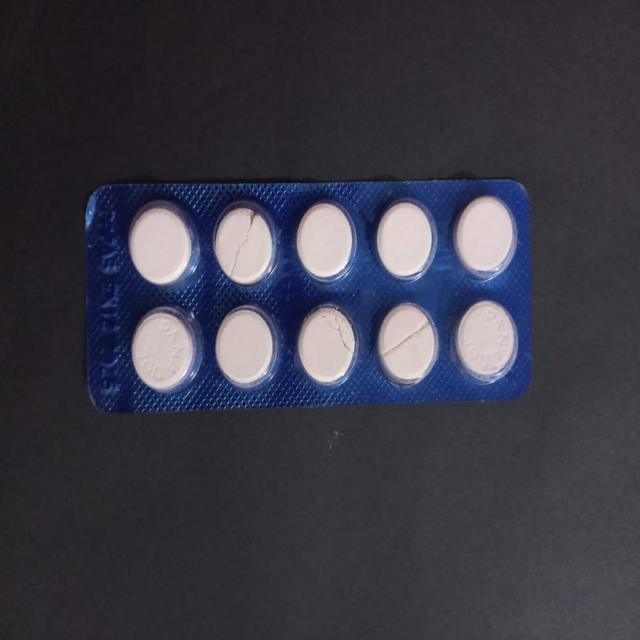defect: (212, 197, 278, 289), (296, 300, 359, 390), (376, 302, 440, 386)
